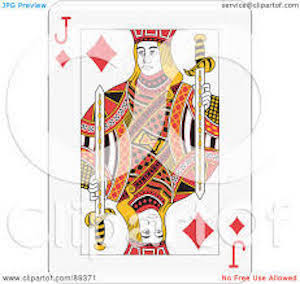JackOfDiamonds: (47, 1, 257, 284)
